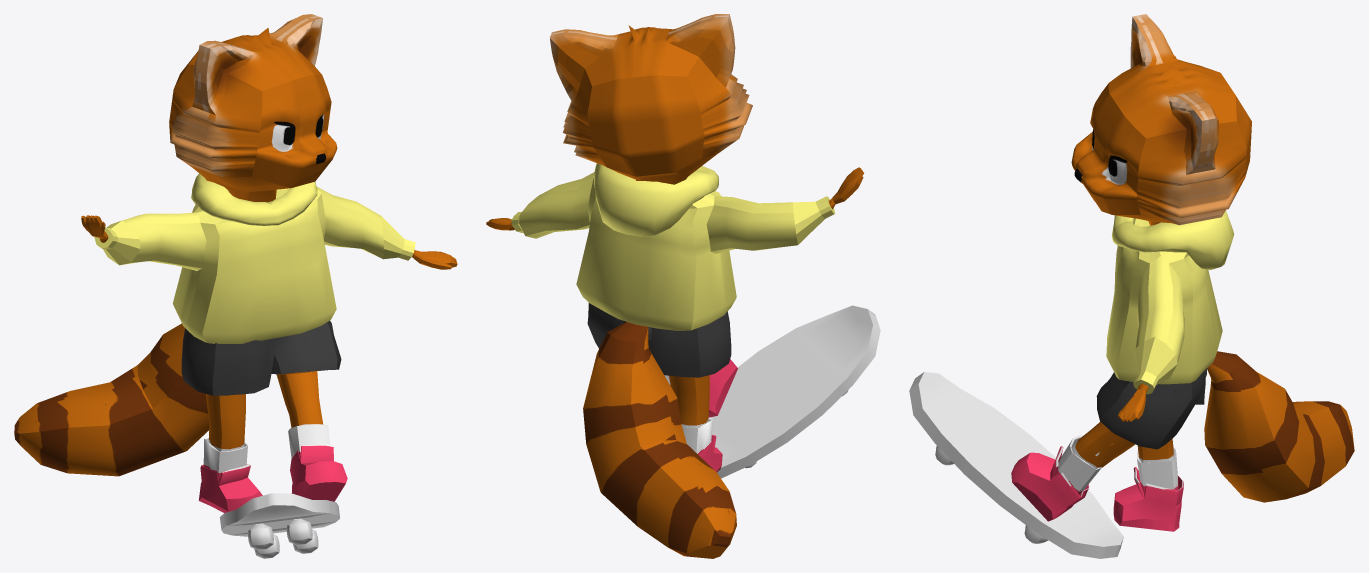
The model's file is red panda-20211297.fbx.
The picture shows the model from 3 angles, left to right: view 1: azimuth 30°, elevation 25°; view 2: azimuth 150°, elevation 25°; view 3: azimuth 270°, elevation 25°; orthographic projection. The views are drawn at different scales.
Visible parts, largest first — view 1: 상체, 머리, 하체, 꼬리, skateboard; view 2: 상체, 머리, 꼬리, skateboard, 하체; view 3: 머리, 상체, 꼬리, 하체, skateboard.
Part boxes in pixels (x1,y1,x2,y2): 상체: (81, 173, 457, 343); 머리: (169, 14, 337, 202); 하체: (181, 321, 347, 512); 꼬리: (14, 323, 209, 476); skateboard: (219, 493, 339, 558); 상체: (486, 163, 863, 330); 머리: (550, 14, 752, 184); 꼬리: (583, 322, 736, 558); skateboard: (710, 305, 880, 478); 하체: (587, 303, 737, 472); 머리: (1071, 14, 1251, 225); 상체: (1106, 210, 1234, 421); 꼬리: (1204, 351, 1354, 502); 하체: (1011, 368, 1207, 531); skateboard: (909, 372, 1123, 558).
Size of the model in its own units: 155 by 153 by 192.
5 materials, 5 textured.
